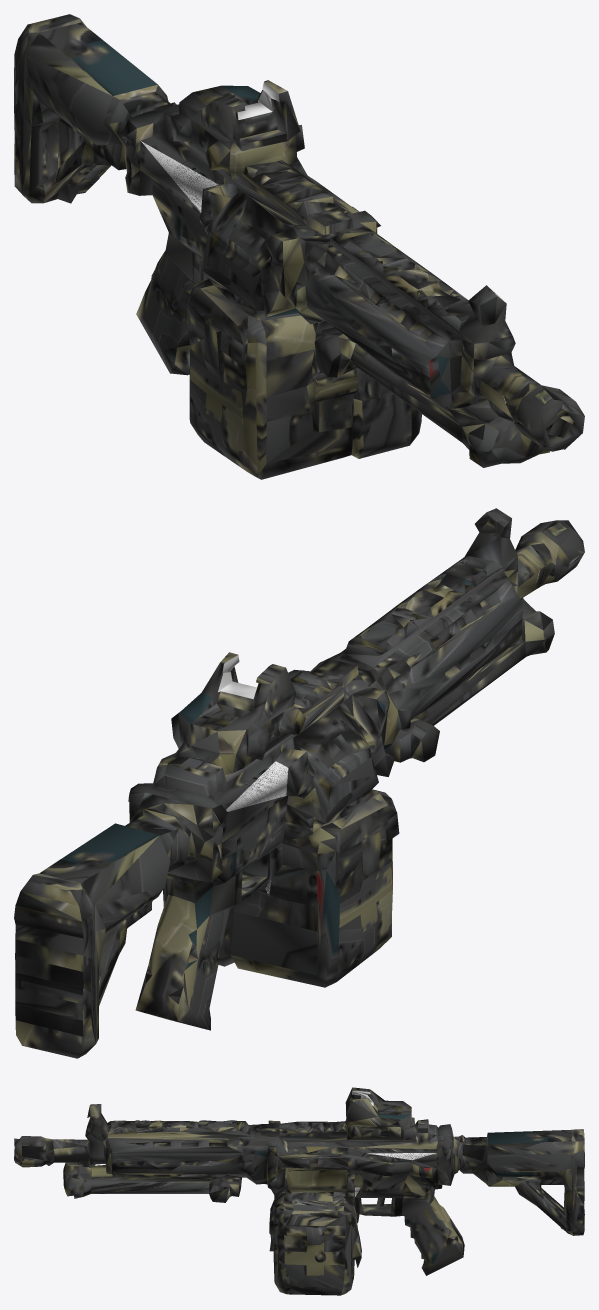
3 renders of one model, top to bottom at view 1: azimuth 30°, elevation 25°; view 2: azimuth 150°, elevation 25°; view 3: azimuth 270°, elevation 25°, orthographic. The views are drawn at different scales.
Visible parts, largest first — view 1: Body, Magazine; view 2: Body, Magazine; view 3: Body, Magazine, ChargingHandle.
Boxes of the visible parts, x1,y1,x2,y2 form: Body: (14,14,584,467); Magazine: (186,272,421,479); Body: (14,508,584,1058); Magazine: (163,789,399,987); Body: (14,1087,584,1275); Magazine: (265,1183,361,1295); ChargingHandle: (384,1153,428,1175).
Size of the model in its own units: 0.3158 by 0.5038 by 1.46.
